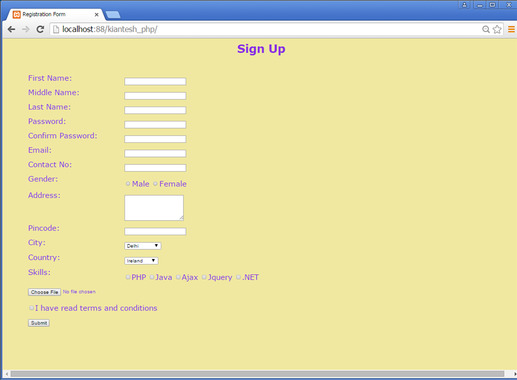_form_: (1, 61, 218, 331)
button: (26, 288, 62, 296), (27, 319, 50, 327)
checkbox: (28, 304, 35, 312)
checkbox_with_label: (26, 303, 158, 313)
field: (123, 194, 185, 222), (122, 226, 186, 237), (123, 105, 186, 116), (122, 148, 185, 159), (121, 163, 185, 173), (123, 91, 186, 101), (123, 134, 186, 144), (123, 77, 187, 86), (122, 121, 186, 130)
field_with_label: (28, 192, 186, 223), (27, 74, 188, 88), (27, 88, 188, 102), (27, 132, 187, 146), (27, 146, 187, 160), (27, 161, 187, 175), (28, 224, 188, 238), (28, 103, 187, 117), (27, 118, 187, 131), (27, 254, 161, 268), (27, 239, 163, 252)
radio: (124, 272, 132, 281), (175, 272, 182, 282), (150, 273, 158, 281), (202, 273, 210, 281), (236, 273, 243, 282), (153, 179, 158, 188), (124, 181, 130, 188)
radio_with_label: (28, 176, 131, 190), (151, 178, 187, 189), (200, 272, 232, 282), (173, 271, 198, 283), (122, 179, 150, 189), (234, 272, 259, 283), (122, 271, 146, 282), (149, 272, 171, 283)
select: (124, 257, 160, 266), (125, 242, 162, 250)
